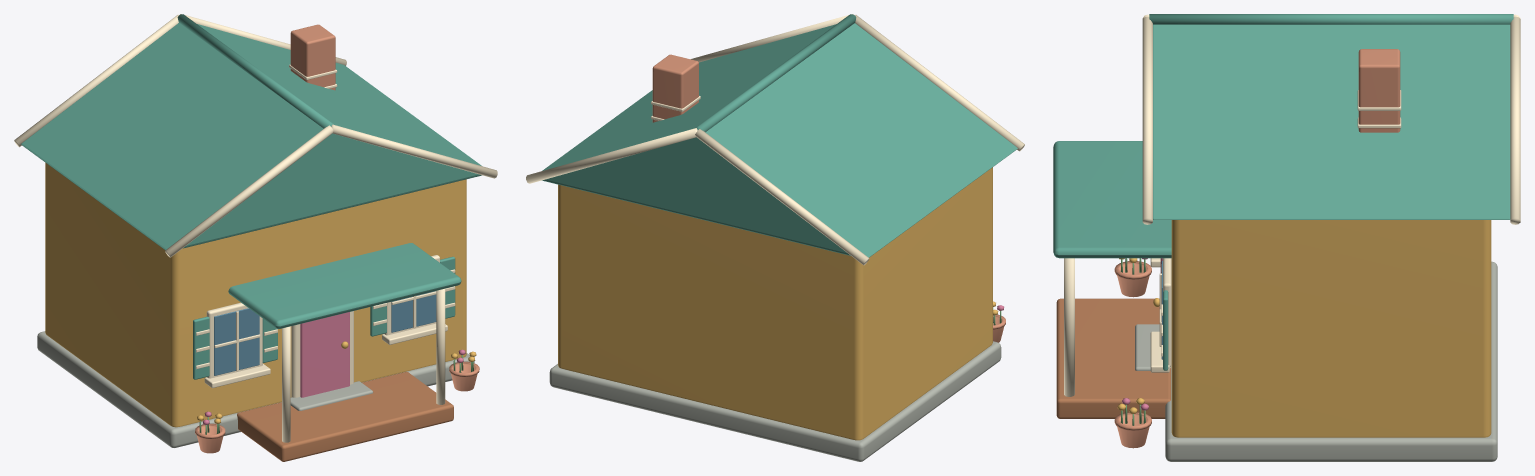
Rendered from Lemon_house.fbx.
3 views of the same model, side by side, from view 1: azimuth 30°, elevation 25°; view 2: azimuth 150°, elevation 25°; view 3: azimuth 270°, elevation 25° (orthographic). The views are drawn at different scales.
Visible parts, largest first — view 1: Town_Lemon_house Gabled roof.001, Town_Lemon_house Plaster walls.001, Town_Lemon_house Porch awning.001, Town_Lemon_house Porch deck.001, Town_Lemon_house Foundation.001, Town_Lemon_house Front door.001, Town_Lemon_house Window glass.002, Town_Lemon_house Chimney.001, Town_Lemon_house Roof fascia.004, Town_Lemon_house Ridge cap.001, Town_Lemon_house Roof fascia.005, Town_Lemon_house Roof fascia.006 (+13 smaller); view 2: Town_Lemon_house Plaster walls.001, Town_Lemon_house Gabled roof.001, Town_Lemon_house Foundation.001, Town_Lemon_house Chimney.001, Town_Lemon_house Roof fascia.006, Town_Lemon_house Ridge cap.001, Town_Lemon_house Roof fascia.007, Town_Lemon_house Roof fascia.004, Town_Lemon_house Roof fascia.005; view 3: Town_Lemon_house Plaster walls.001, Town_Lemon_house Gabled roof.001, Town_Lemon_house Porch awning.001, Town_Lemon_house Porch deck.001, Town_Lemon_house Foundation.001, Town_Lemon_house Ridge cap.001, Town_Lemon_house Chimney.001, Town_Lemon_house Roof fascia.007, Town_Lemon_house Roof fascia.005, Town_Lemon_house Porch column.003, Town_Lemon_house Terracotta pot.002, Town_Lemon_house Terracotta pot.003 (+4 smaller).
Part boxes in pixels (x1=…): Town_Lemon_house Gabled roof.001: x1=21, y1=23, x2=481, y2=250; Town_Lemon_house Plaster walls.001: x1=45, y1=162, x2=466, y2=427; Town_Lemon_house Porch awning.001: x1=228, y1=243, x2=461, y2=328; Town_Lemon_house Porch deck.001: x1=237, y1=372, x2=453, y2=461; Town_Lemon_house Foundation.001: x1=37, y1=331, x2=474, y2=447; Town_Lemon_house Front door.001: x1=300, y1=312, x2=349, y2=397; Town_Lemon_house Window glass.002: x1=214, y1=308, x2=259, y2=375; Town_Lemon_house Chimney.001: x1=290, y1=24, x2=335, y2=90; Town_Lemon_house Roof fascia.004: x1=165, y1=125, x2=333, y2=257; Town_Lemon_house Ridge cap.001: x1=177, y1=14, x2=333, y2=128; Town_Lemon_house Roof fascia.005: x1=331, y1=124, x2=497, y2=178; Town_Lemon_house Roof fascia.006: x1=14, y1=15, x2=178, y2=147; Town_Lemon_house Plaster walls.001: x1=558, y1=167, x2=992, y2=440; Town_Lemon_house Gabled roof.001: x1=542, y1=23, x2=1017, y2=257; Town_Lemon_house Foundation.001: x1=549, y1=341, x2=1001, y2=461; Town_Lemon_house Chimney.001: x1=652, y1=54, x2=698, y2=122; Town_Lemon_house Roof fascia.006: x1=695, y1=129, x2=869, y2=265; Town_Lemon_house Ridge cap.001: x1=695, y1=14, x2=856, y2=132; Town_Lemon_house Roof fascia.007: x1=526, y1=128, x2=697, y2=183; Town_Lemon_house Roof fascia.004: x1=855, y1=15, x2=1024, y2=151; Town_Lemon_house Roof fascia.005: x1=691, y1=14, x2=853, y2=62; Town_Lemon_house Plaster walls.001: x1=1171, y1=220, x2=1491, y2=437; Town_Lemon_house Gabled roof.001: x1=1153, y1=24, x2=1510, y2=219; Town_Lemon_house Porch awning.001: x1=1053, y1=141, x2=1171, y2=258; Town_Lemon_house Porch deck.001: x1=1056, y1=298, x2=1170, y2=418; Town_Lemon_house Foundation.001: x1=1165, y1=261, x2=1497, y2=461; Town_Lemon_house Ridge cap.001: x1=1149, y1=14, x2=1513, y2=24; Town_Lemon_house Chimney.001: x1=1358, y1=49, x2=1400, y2=132; Town_Lemon_house Roof fascia.007: x1=1510, y1=16, x2=1520, y2=224; Town_Lemon_house Roof fascia.005: x1=1142, y1=16, x2=1152, y2=224; Town_Lemon_house Porch column.003: x1=1064, y1=258, x2=1074, y2=396; Town_Lemon_house Terracotta pot.002: x1=1114, y1=261, x2=1151, y2=297; Town_Lemon_house Terracotta pot.003: x1=1114, y1=412, x2=1151, y2=448.
Bounding box in the file's own units: 728 × 625 × 731.
